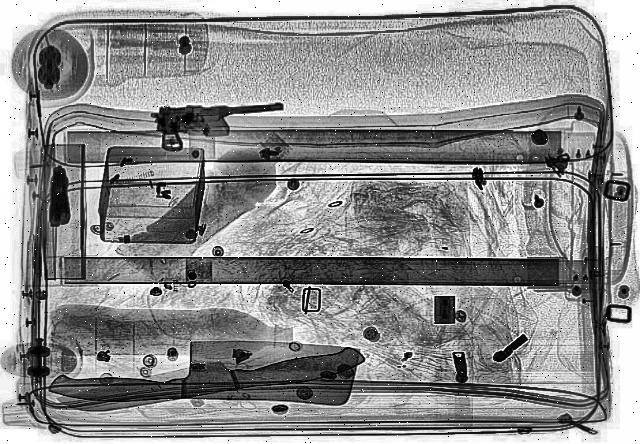Gun: (149, 97, 293, 150), (44, 165, 70, 227)
Knife: (48, 333, 364, 415), (40, 342, 370, 420)
